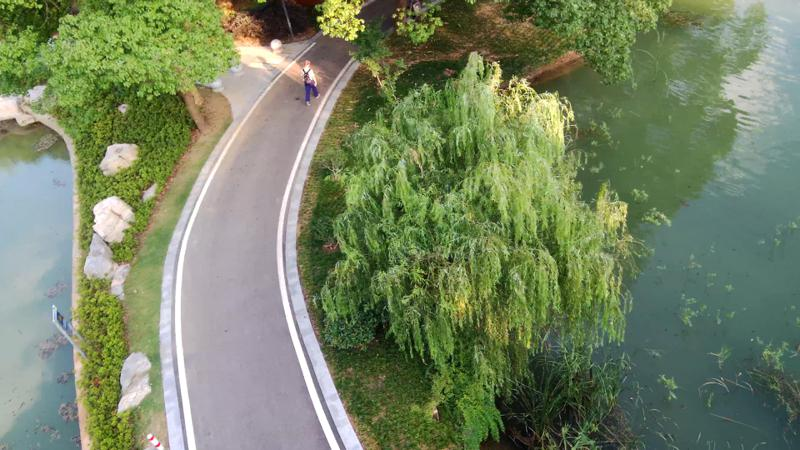passerby: (302, 59, 321, 108)
